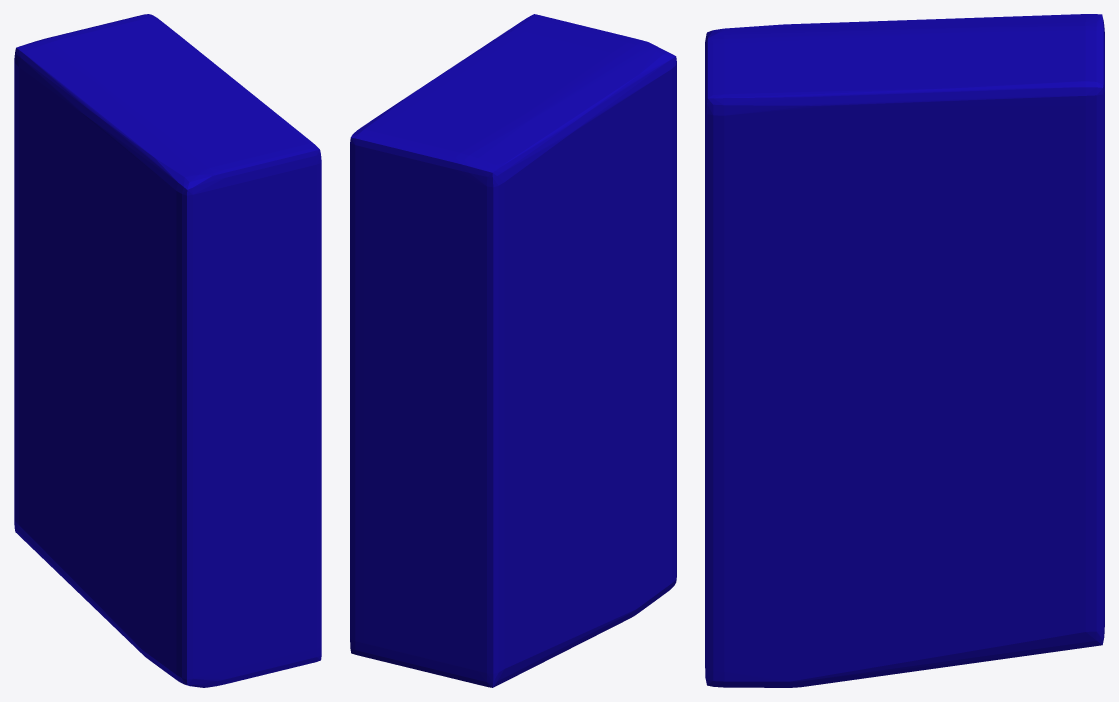
Rendered from right_f_middle_part_5.obj.
3 views of the same model, side by side, from view 1: azimuth 30°, elevation 25°; view 2: azimuth 150°, elevation 25°; view 3: azimuth 270°, elevation 25° (orthographic). The views are drawn at different scales.
Bounding box in the file's own units: 4.81 × 17.22 × 10.29.
